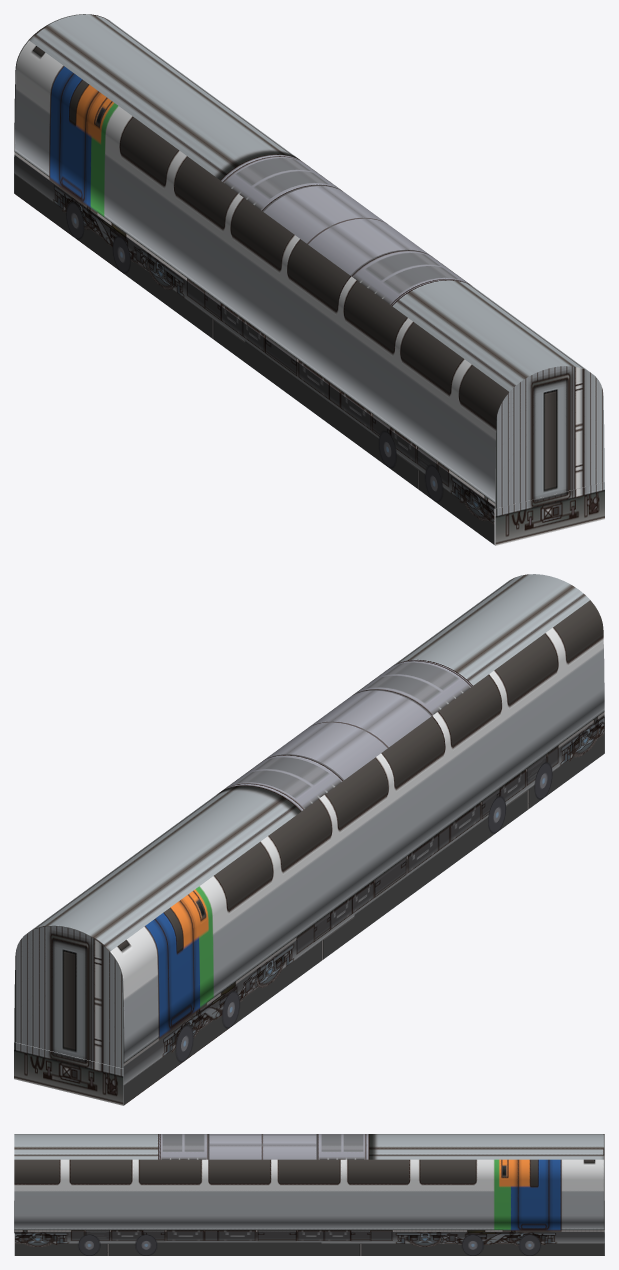
File: car3.glb
The picture shows the model from 3 angles, top to bottom: view 1: azimuth 30°, elevation 25°; view 2: azimuth 150°, elevation 25°; view 3: azimuth 270°, elevation 25°; orthographic projection. The views are drawn at different scales.
Parts seen in each view (by area): view 1: jr_hokkaido_kiha261_1000; view 2: jr_hokkaido_kiha261_1000; view 3: jr_hokkaido_kiha261_1000.
Boxes of the visible parts, box(x1,y1,x2,y2) form: jr_hokkaido_kiha261_1000: box(14, 14, 604, 545); jr_hokkaido_kiha261_1000: box(14, 574, 604, 1105); jr_hokkaido_kiha261_1000: box(14, 1134, 604, 1255).
Size of the model in its own units: 2.8 by 4.01 by 21.33.
Materials: 6 (5 with a texture image).
